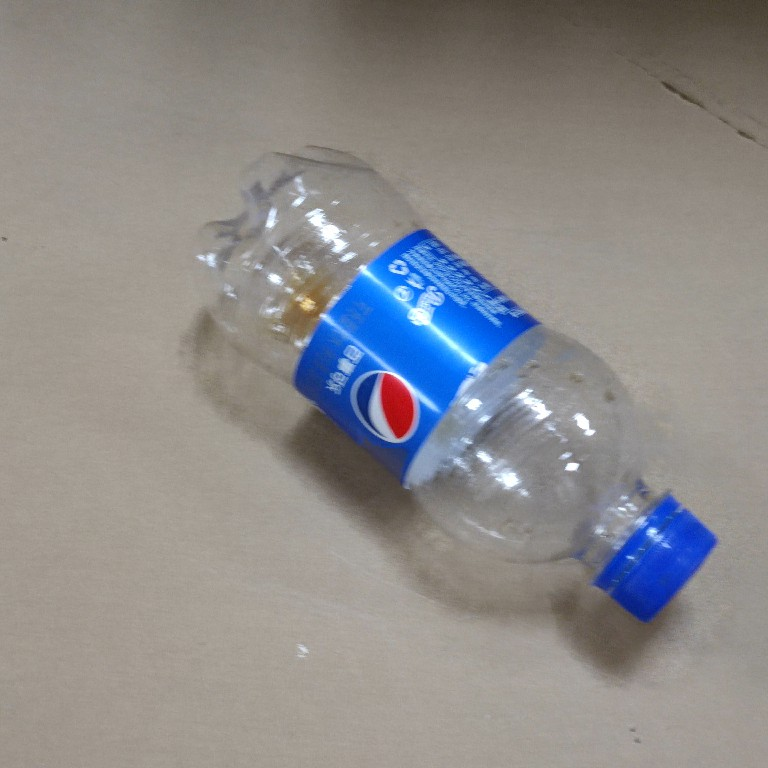bottle: (180, 139, 725, 634)
